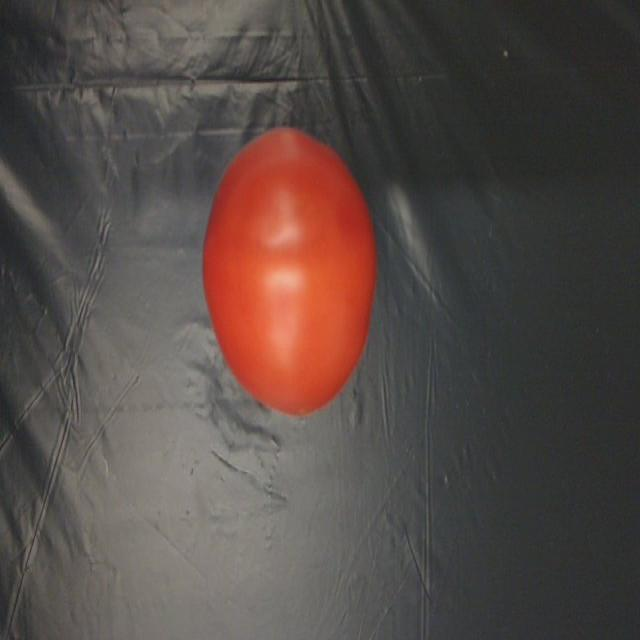kirmizi: (202, 124, 387, 428)
